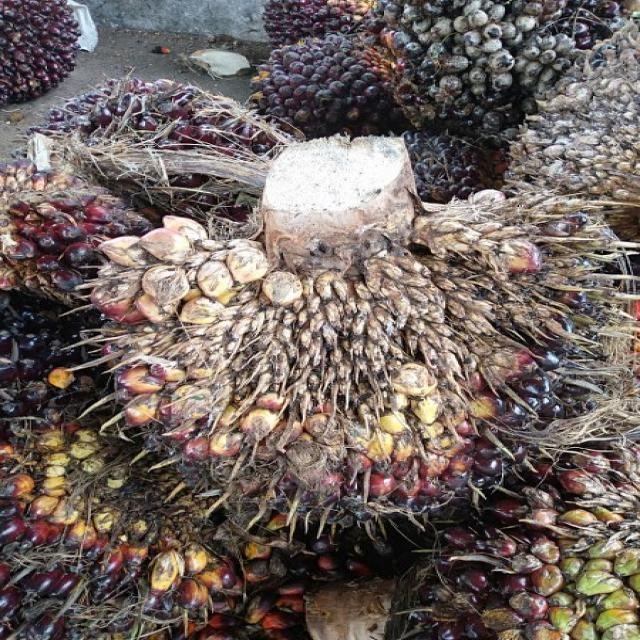fraksi 00: (63, 212, 607, 563)
